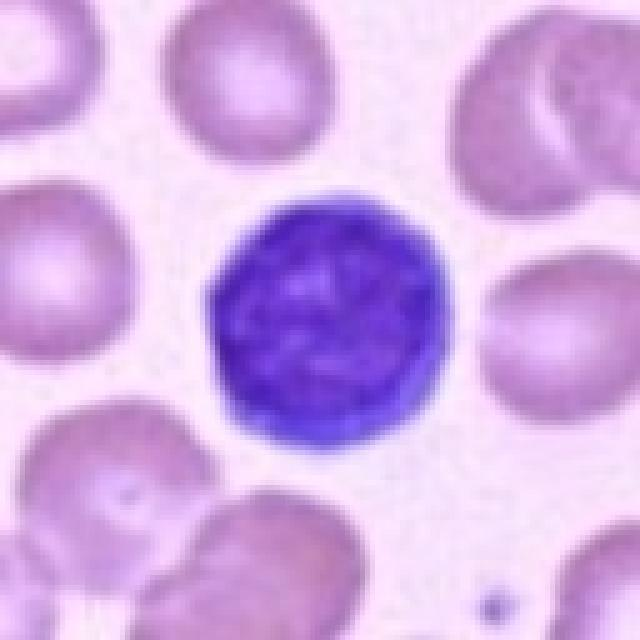lympho: (200, 177, 462, 465)
